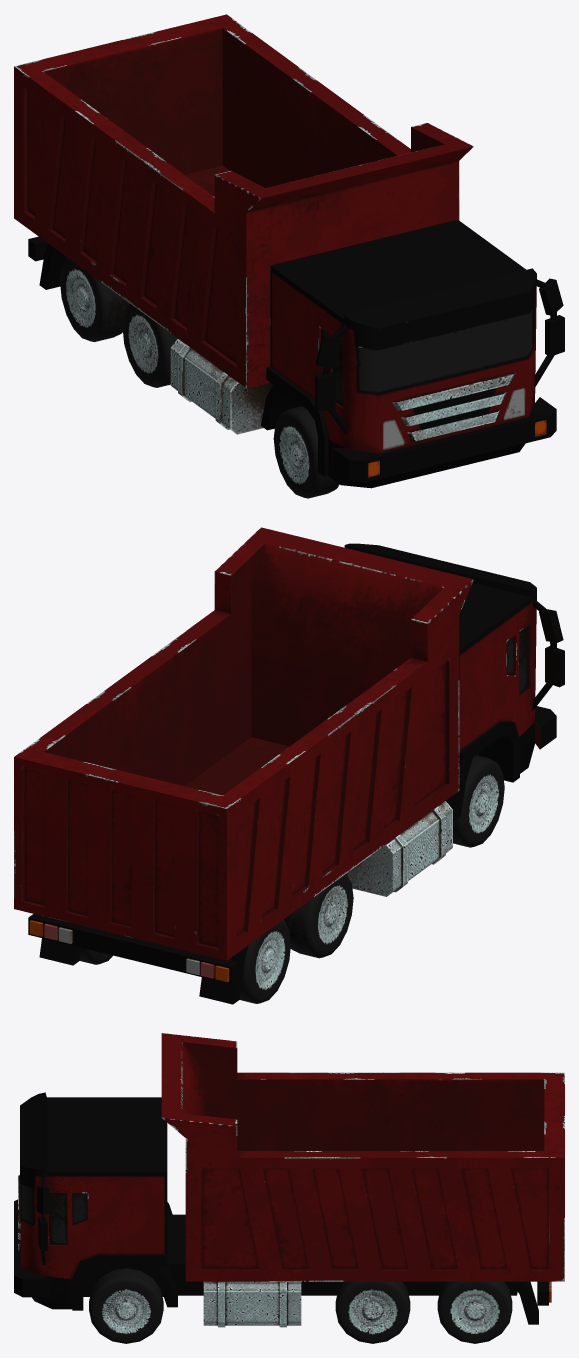
The model's file is Truck.fbx.
3 renders of one model, top to bottom at view 1: azimuth 30°, elevation 25°; view 2: azimuth 150°, elevation 25°; view 3: azimuth 270°, elevation 25°, orthographic. The views are drawn at different scales.
Parts seen in each view (by area): view 1: Truck; view 2: Truck; view 3: Truck.
Boxes of the visible parts, box(x1,y1,x2,y2) form: Truck: box(14, 14, 564, 498); Truck: box(14, 527, 564, 1004); Truck: box(14, 1033, 564, 1343).
Size of the model in its own units: 281 by 309 by 664.
1 material, 1 textured.
